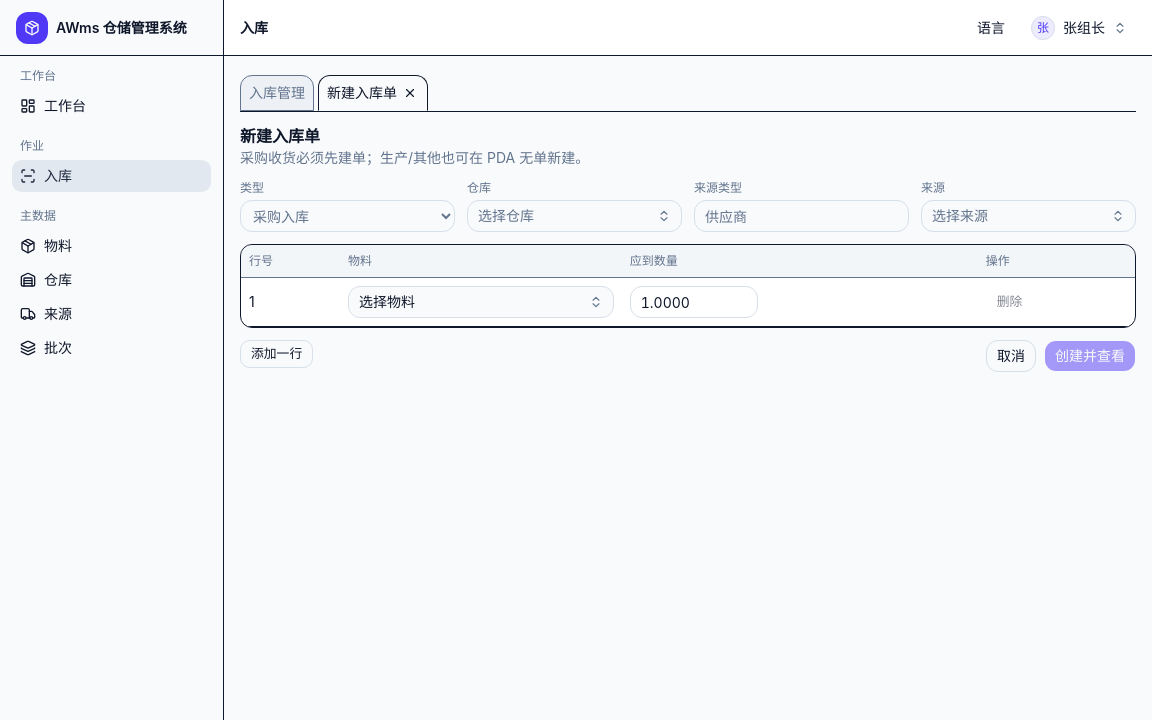
入库管理 Web 工作区 › 新建页取消复用未提交确认流程
Replace the text in the field showing "1.0000" with "2": x=694, y=302 [630,286,758,318]
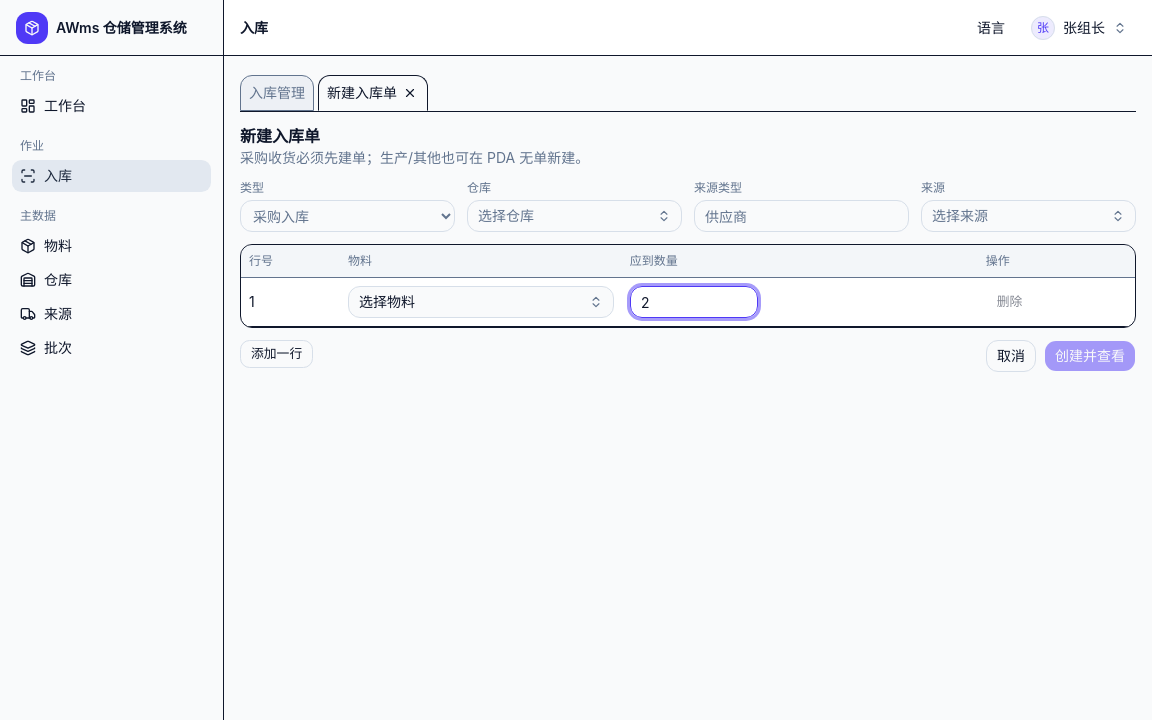
Click the button "取消": x=1011, y=356 [986,340,1036,372]
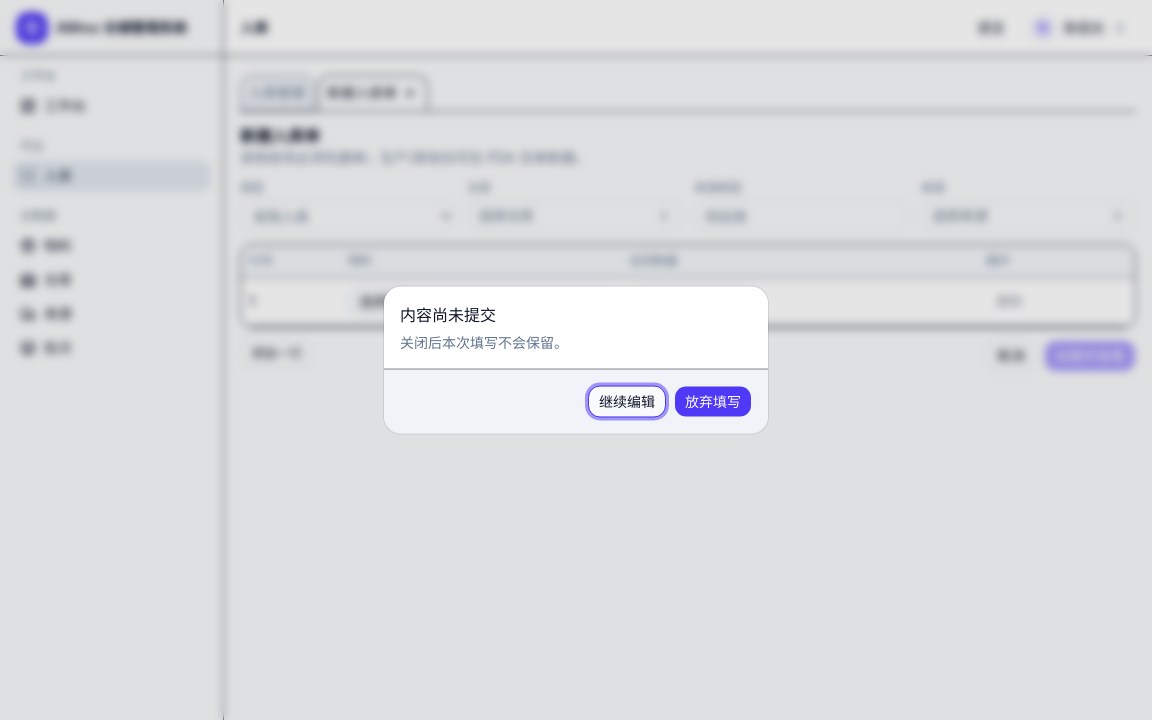
Expected: the heading "内容尚未提交" is shown, [400,302,496,326]
Expected: the button "继续编辑" is shown, [588,386,666,418]
